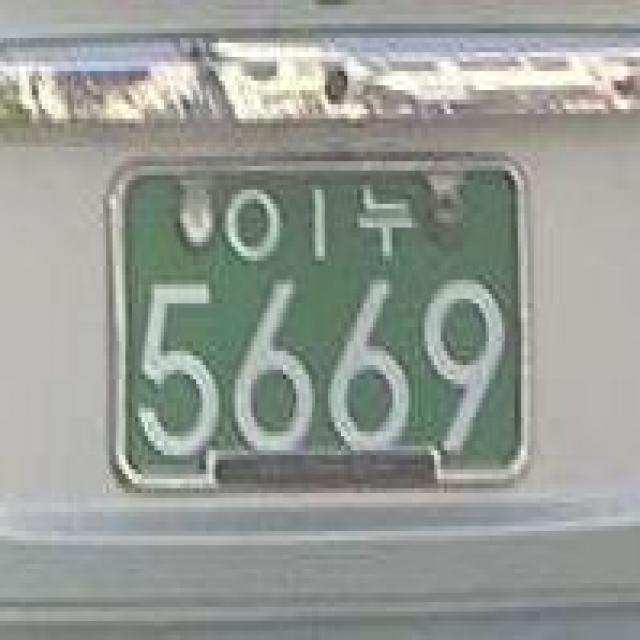illegal_plate: (87, 134, 547, 516)
